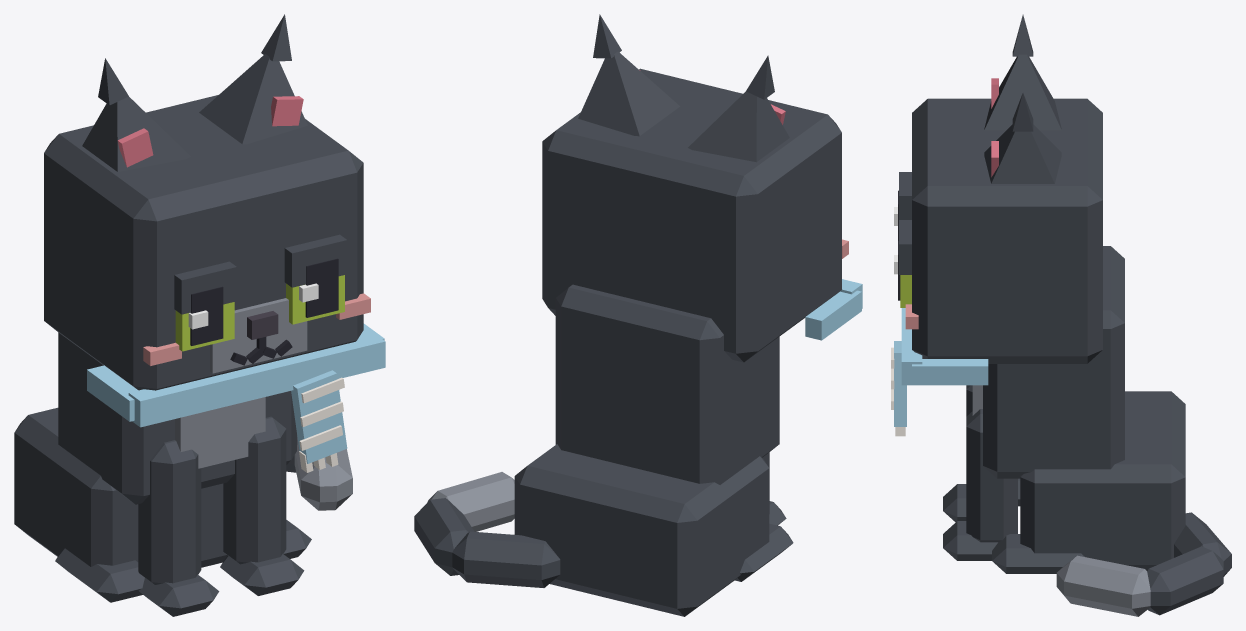
The model's file is CatCafe_Cat_Smoke_Sit.fbx.
3 renders of one model, left to right at view 1: azimuth 30°, elevation 25°; view 2: azimuth 150°, elevation 25°; view 3: azimuth 270°, elevation 25°, orthographic. The views are drawn at different scales.
Visible parts, largest first — view 1: CatCafe_Cat_Smoke_Sit_Head, CatCafe_Cat_Smoke_Sit_Body, CatCafe_Cat_Smoke_Sit_Prop, CatCafe_Cat_Smoke_Sit_LegF2, CatCafe_Cat_Smoke_Sit_LegF1, CatCafe_Cat_Smoke_Sit_EarL, CatCafe_Cat_Smoke_Sit_EarR, CatCafe_Cat_Smoke_Sit_Eye2, CatCafe_Cat_Smoke_Sit_Eye1, CatCafe_Cat_Smoke_Sit_Tail; view 2: CatCafe_Cat_Smoke_Sit_Body, CatCafe_Cat_Smoke_Sit_Head, CatCafe_Cat_Smoke_Sit_Tail, CatCafe_Cat_Smoke_Sit_EarL, CatCafe_Cat_Smoke_Sit_EarR, CatCafe_Cat_Smoke_Sit_Prop; view 3: CatCafe_Cat_Smoke_Sit_Head, CatCafe_Cat_Smoke_Sit_Body, CatCafe_Cat_Smoke_Sit_Tail, CatCafe_Cat_Smoke_Sit_LegF1, CatCafe_Cat_Smoke_Sit_EarL, CatCafe_Cat_Smoke_Sit_Prop, CatCafe_Cat_Smoke_Sit_EarR, CatCafe_Cat_Smoke_Sit_Eye1, CatCafe_Cat_Smoke_Sit_LegF2, CatCafe_Cat_Smoke_Sit_Eye2.
Boxes of the visible parts, left/top/right/bottom form: CatCafe_Cat_Smoke_Sit_Head: left=44, top=95, right=370, bottom=390; CatCafe_Cat_Smoke_Sit_Body: left=14, top=332, right=311, bottom=602; CatCafe_Cat_Smoke_Sit_Prop: left=87, top=323, right=385, bottom=472; CatCafe_Cat_Smoke_Sit_LegF2: left=138, top=440, right=219, bottom=616; CatCafe_Cat_Smoke_Sit_LegF1: left=220, top=416, right=304, bottom=595; CatCafe_Cat_Smoke_Sit_EarL: left=199, top=14, right=307, bottom=144; CatCafe_Cat_Smoke_Sit_EarR: left=82, top=58, right=190, bottom=171; CatCafe_Cat_Smoke_Sit_Eye2: left=174, top=261, right=236, bottom=351; CatCafe_Cat_Smoke_Sit_Eye1: left=284, top=234, right=347, bottom=324; CatCafe_Cat_Smoke_Sit_Tail: left=286, top=435, right=352, bottom=510; CatCafe_Cat_Smoke_Sit_Body: left=514, top=284, right=793, bottom=616; CatCafe_Cat_Smoke_Sit_Head: left=542, top=68, right=848, bottom=362; CatCafe_Cat_Smoke_Sit_Tail: left=414, top=472, right=560, bottom=587; CatCafe_Cat_Smoke_Sit_EarL: left=578, top=14, right=679, bottom=136; CatCafe_Cat_Smoke_Sit_EarR: left=688, top=55, right=789, bottom=162; CatCafe_Cat_Smoke_Sit_Prop: left=805, top=279, right=862, bottom=340; CatCafe_Cat_Smoke_Sit_Head: left=905, top=98, right=1102, bottom=363; CatCafe_Cat_Smoke_Sit_Body: left=972, top=246, right=1185, bottom=573; CatCafe_Cat_Smoke_Sit_Tail: left=1056, top=512, right=1231, bottom=616; CatCafe_Cat_Smoke_Sit_LegF1: left=943, top=409, right=1017, bottom=560; CatCafe_Cat_Smoke_Sit_EarL: left=984, top=93, right=1061, bottom=183; CatCafe_Cat_Smoke_Sit_Prop: left=891, top=308, right=988, bottom=436; CatCafe_Cat_Smoke_Sit_EarR: left=984, top=14, right=1061, bottom=130; CatCafe_Cat_Smoke_Sit_Eye1: left=894, top=220, right=911, bottom=307; CatCafe_Cat_Smoke_Sit_LegF2: left=943, top=385, right=972, bottom=522; CatCafe_Cat_Smoke_Sit_Eye2: left=894, top=172, right=911, bottom=240.
Size of the model in its own units: 1.29 by 1.96 by 1.25.
1 material, 1 textured.
